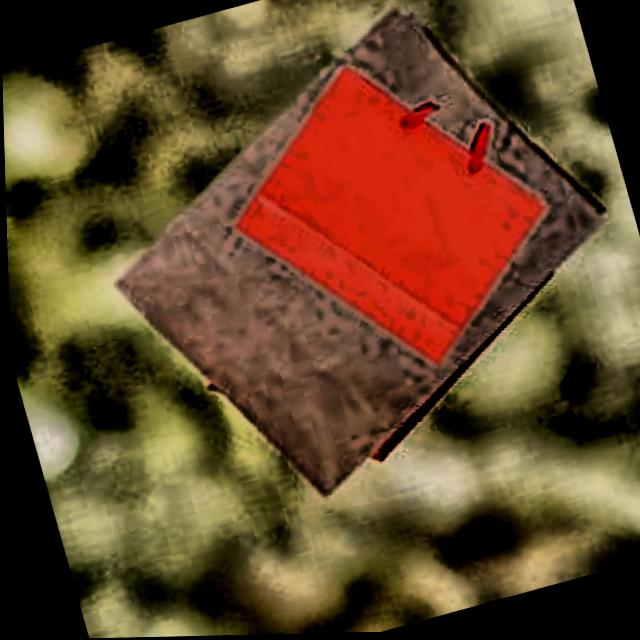Paper-bag: (63, 0, 640, 543), (211, 30, 581, 410)
